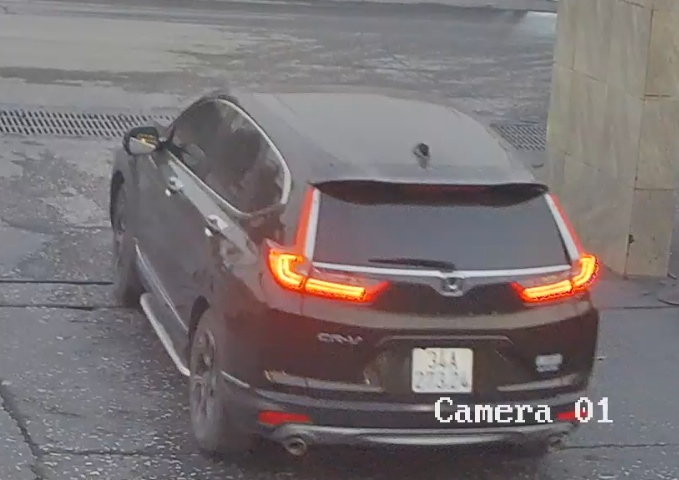vehicle plate: (406, 335, 476, 397)
